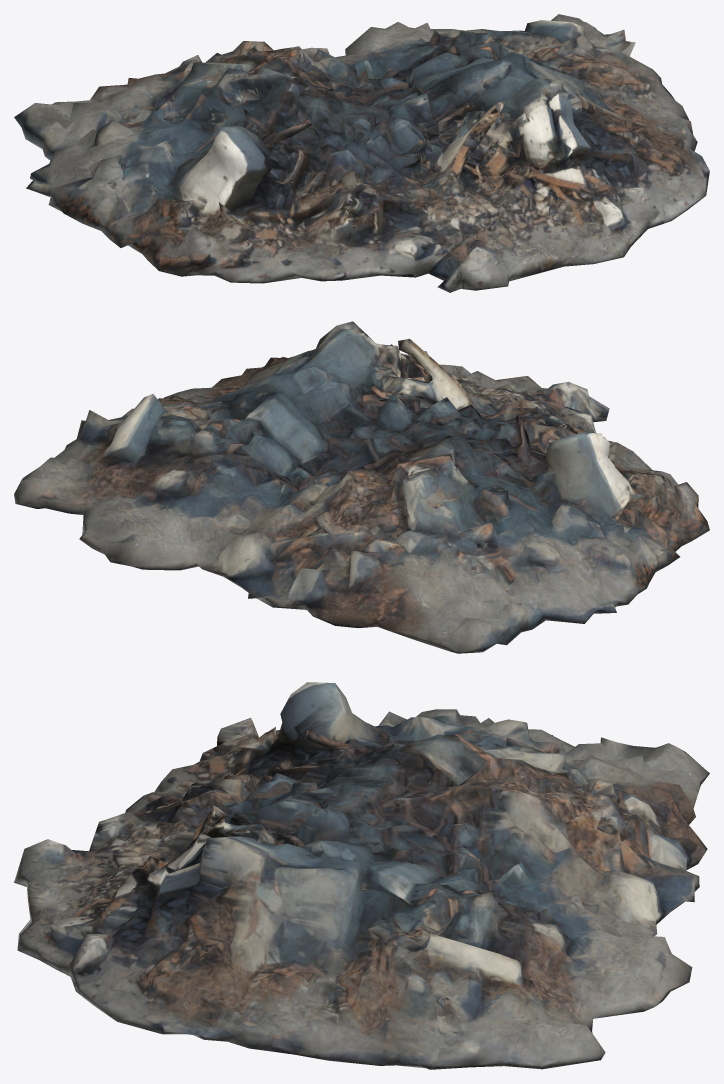
File: rubbleA.glb
The picture shows the model from 3 angles, top to bottom: view 1: azimuth 30°, elevation 25°; view 2: azimuth 150°, elevation 25°; view 3: azimuth 270°, elevation 25°; orthographic projection. The views are drawn at different scales.
Bounding box in the file's own units: 2.01 × 0.3452 × 1.74.
Materials: 1 (1 with a texture image).
